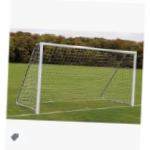goals: (16, 43, 139, 115)
